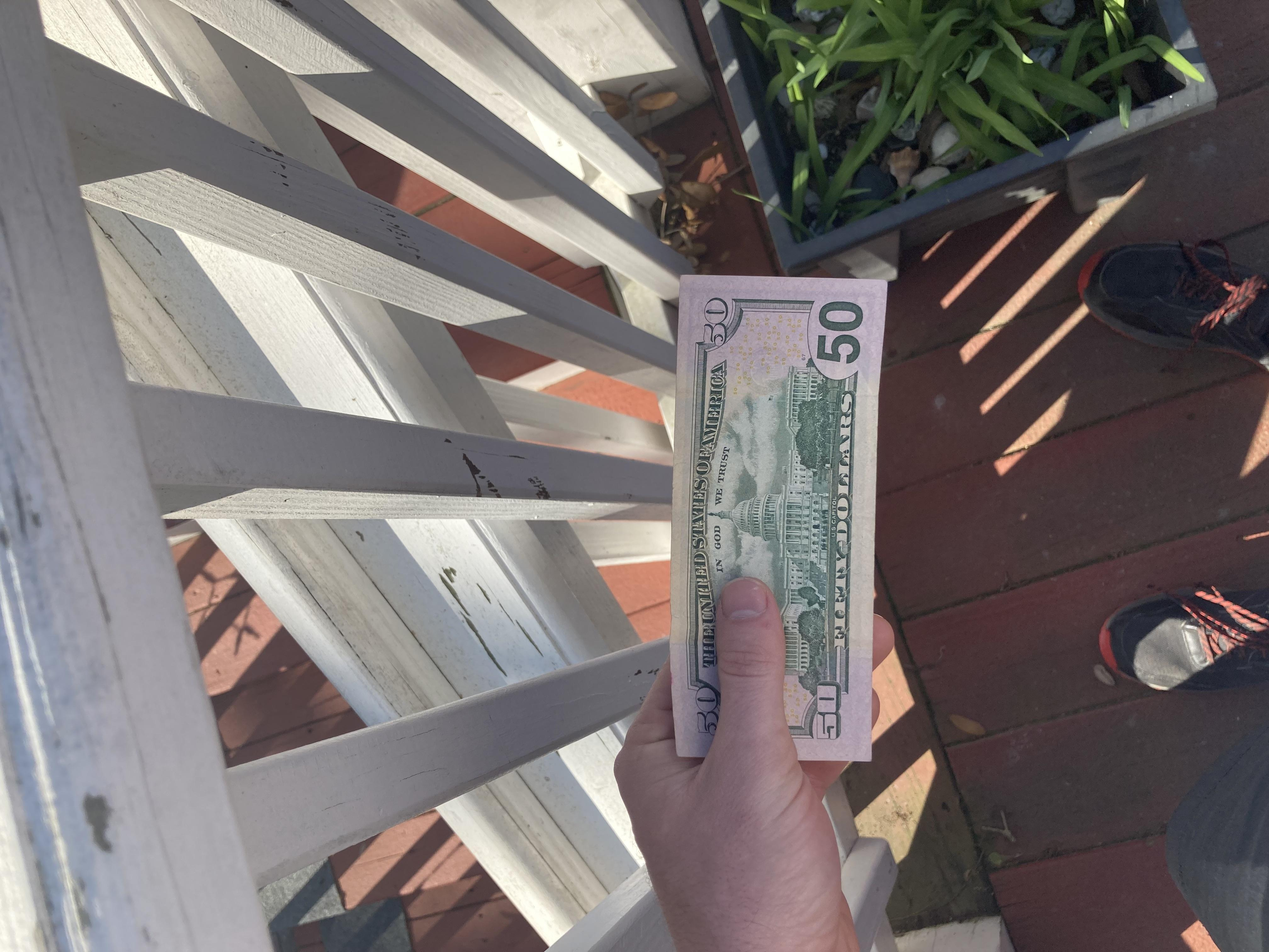fifty-back: (254, 504, 902, 665)
